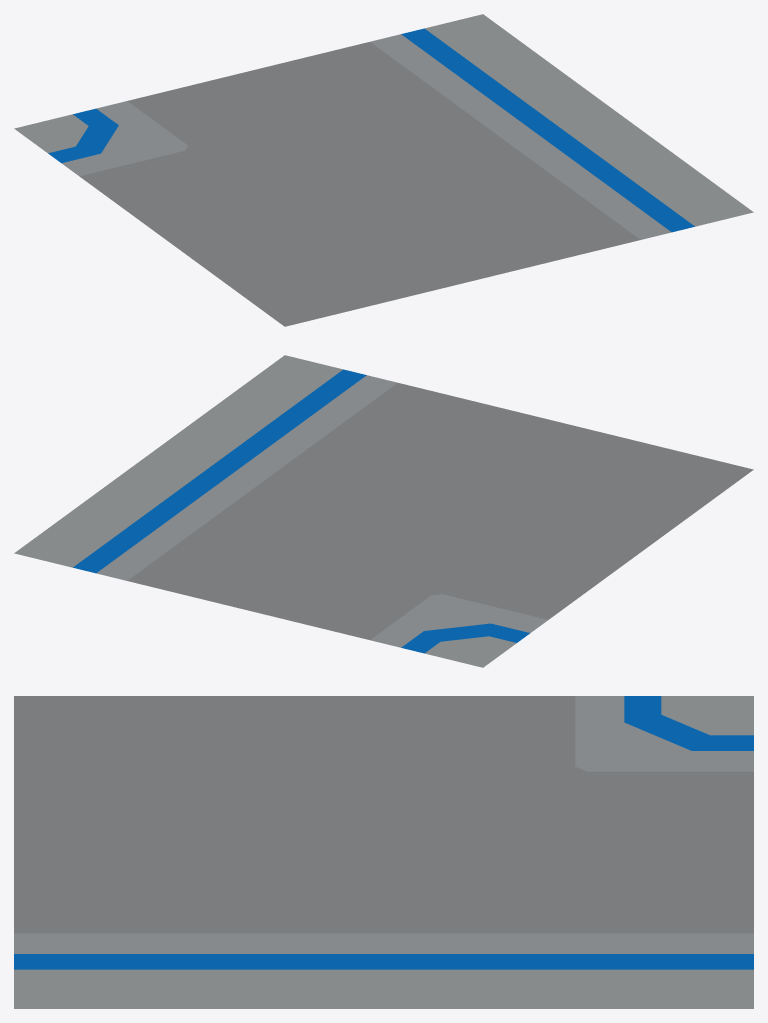
Rendered from Ceiling_type_B_008.011.fbx.
3 views of the same model, one above another, from view 1: azimuth 30°, elevation 25°; view 2: azimuth 150°, elevation 25°; view 3: azimuth 270°, elevation 25° (orthographic). The views are drawn at different scales.
Parts seen in each view (by area): view 1: Ceiling_type_B_008.011; view 2: Ceiling_type_B_008.011; view 3: Ceiling_type_B_008.011.
Boxes of the visible parts, x1=… form: Ceiling_type_B_008.011: x1=14, y1=14, x2=753, y2=326; Ceiling_type_B_008.011: x1=14, y1=355, x2=753, y2=667; Ceiling_type_B_008.011: x1=14, y1=696, x2=753, y2=1008.
Bounding box in the file's own units: 400 × 400 × 4.55.
